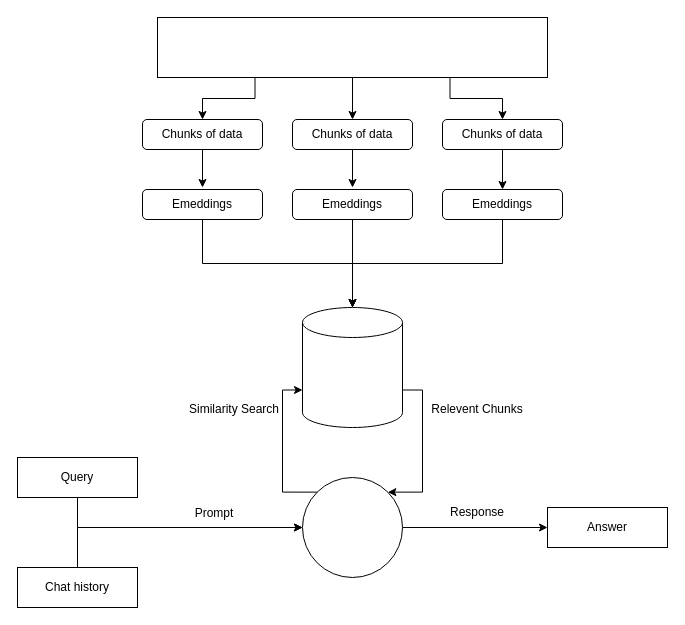
Some shapes in this 685 by 625 pixel diagram are drawn without their labels. Each missing label, with the box of its shape:
LLM: (302, 476, 402, 578)
PDF: (156, 16, 548, 78)
Vector Store (FAISS): (302, 306, 402, 428)
